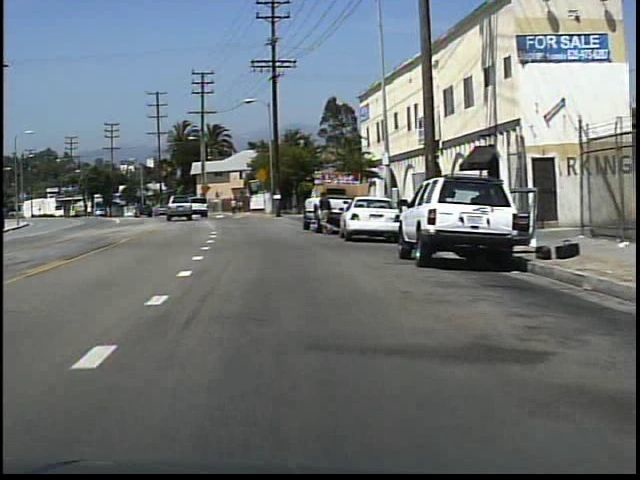person: (315, 185, 338, 239), (229, 197, 239, 218), (236, 198, 245, 216)
